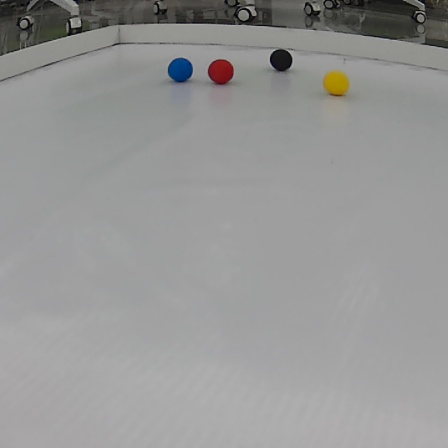black: (267, 49, 297, 72)
blue: (165, 56, 195, 84)
red: (208, 59, 236, 84)
yellow: (322, 70, 352, 96)
